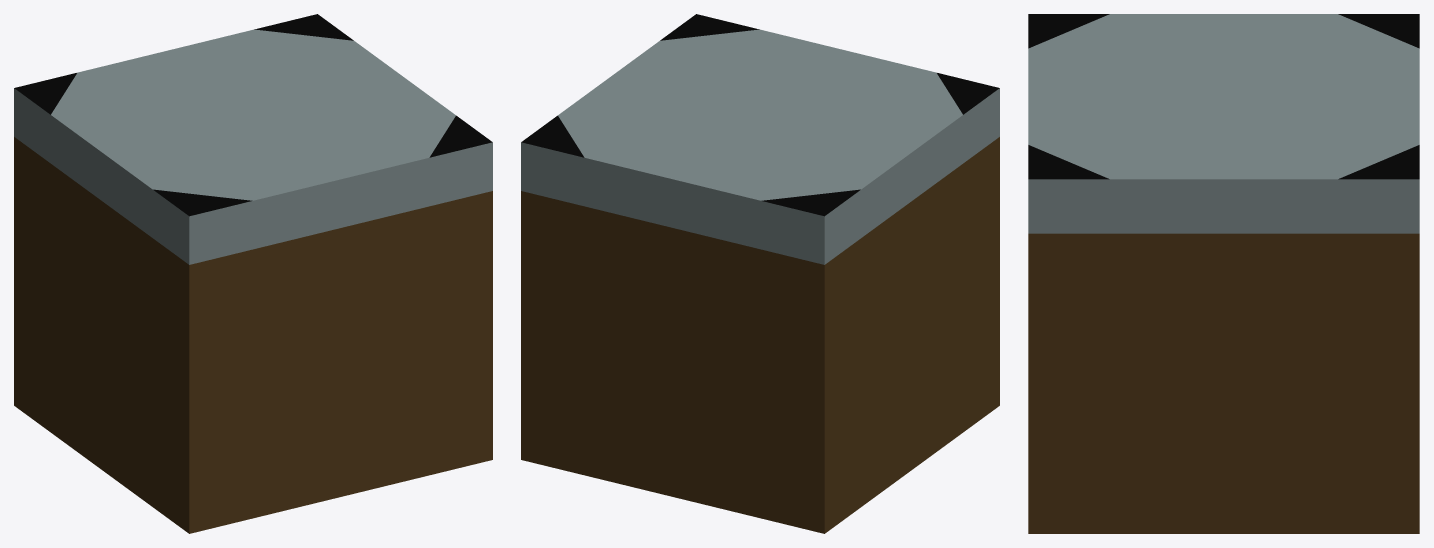
Rendered from floor.fbx.
3 renders of one model, left to right at view 1: azimuth 30°, elevation 25°; view 2: azimuth 150°, elevation 25°; view 3: azimuth 270°, elevation 25°, orthographic. The views are drawn at different scales.
Visible parts, largest first — view 1: Floor.002; view 2: Floor.002; view 3: Floor.002.
Part boxes in pixels (left/top/right/bottom): Floor.002: left=14, top=14, right=492, bottom=533; Floor.002: left=521, top=14, right=999, bottom=533; Floor.002: left=1028, top=14, right=1419, bottom=533.
Size of the model in its own units: 1 by 1 by 1.
